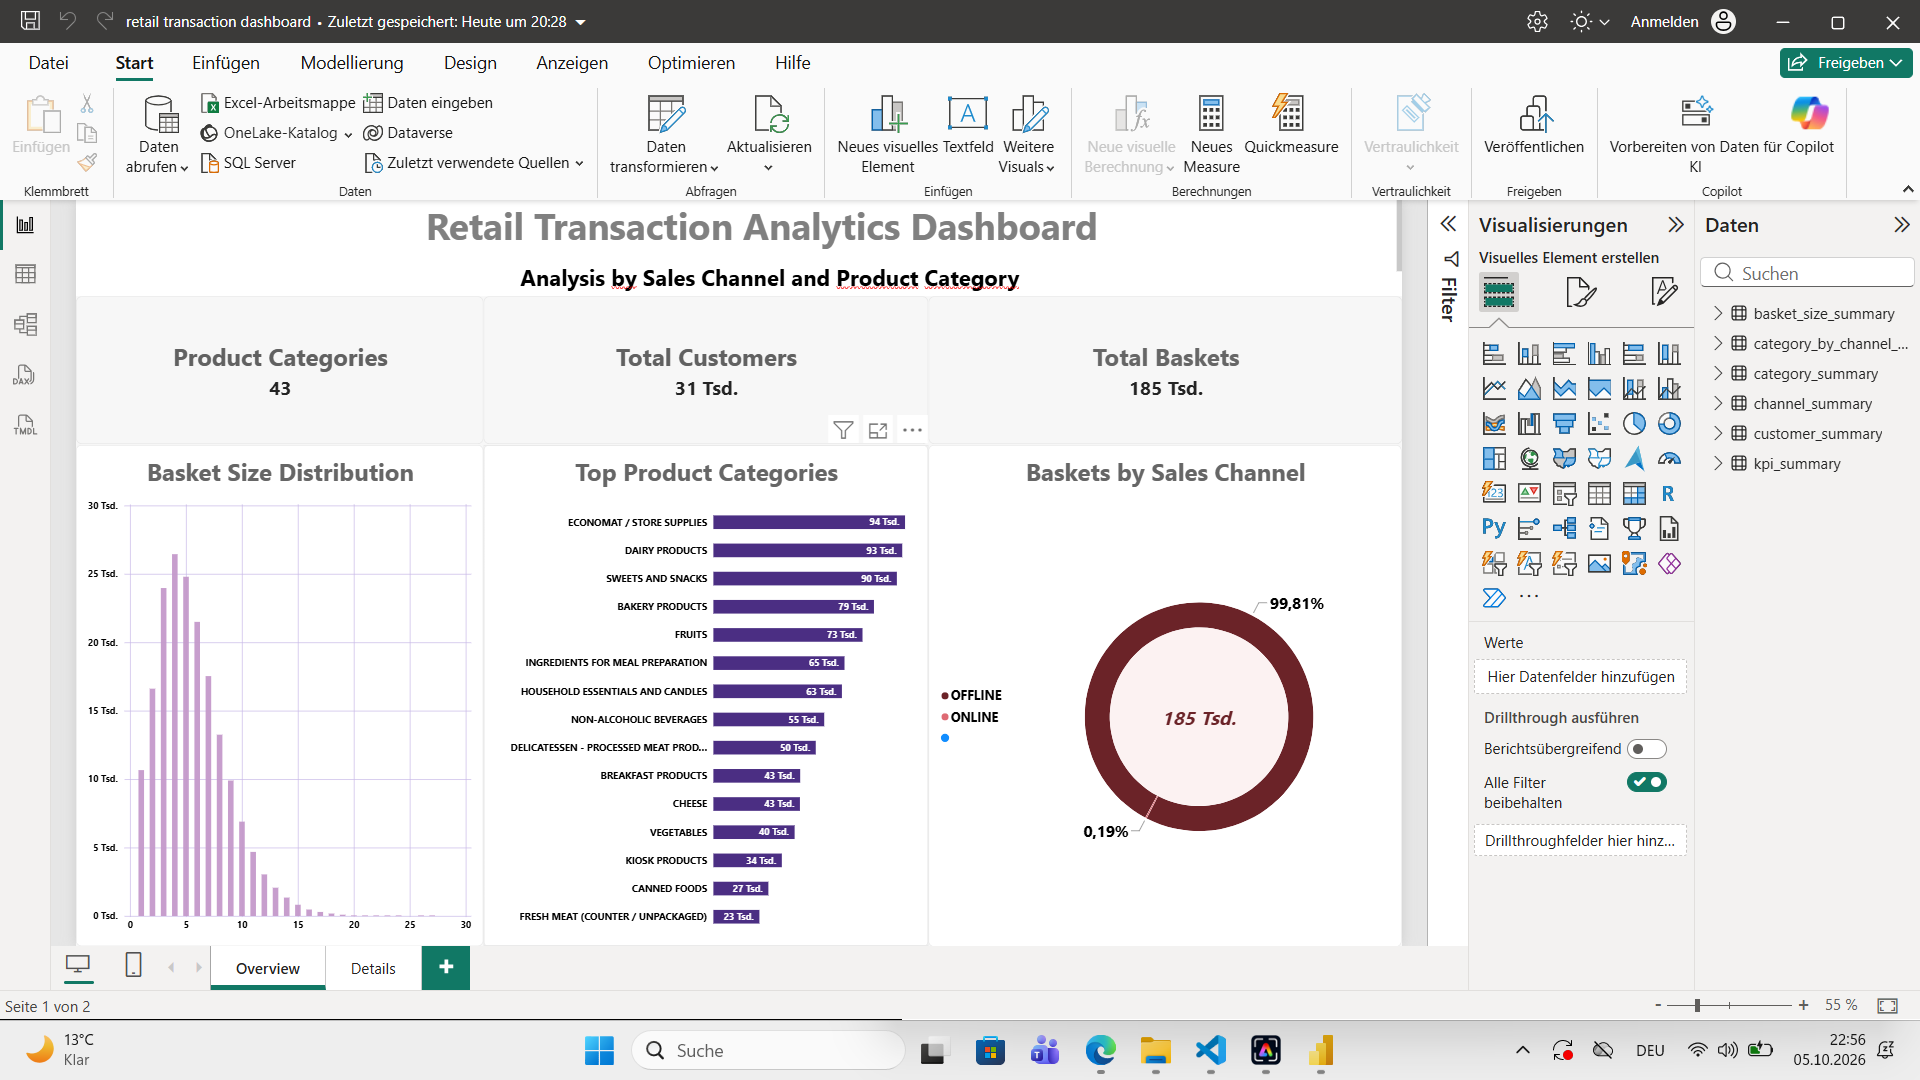

Layout of this report page (visuals, bound fields, positions):
{"tool":"powerbi","page":{"name":"Overview","canvas":[1920,1080],"ordinal":0},"visuals":[{"type":"textbox","box":[10,0,280,280],"z":0},{"type":"textbox","box":[10,290,280,280],"z":1000},{"type":"textbox","box":[10,580,280,280],"z":2000},{"type":"textbox","box":[10,870,280,210],"z":3000},{"type":"textbox","box":[300,0,280,280],"z":4000},{"type":"textbox","box":[300,290,280,280],"z":5000},{"type":"textbox","box":[300,580,280,280],"z":6000},{"type":"textbox","box":[300,870,280,210],"z":7000},{"type":"textbox","box":[590,0,280,280],"z":8000},{"type":"textbox","box":[590,290,280,280],"z":9000},{"type":"textbox","box":[590,580,280,280],"z":10000},{"type":"textbox","box":[590,870,280,210],"z":11000},{"type":"textbox","box":[0,0,1920.1,139.3],"z":12000},{"type":"textbox","box":[880,290,280,280],"z":13000},{"type":"cardVisual","fields":{"Data":["Sum(kpi_summary.total_unique_baskets)"]},"box":[1234.2,139.3,686,214],"z":14000},{"type":"cardVisual","fields":{"Data":["Sum(kpi_summary.total_unique_customers)"]},"box":[590.7,140,644.3,214.1],"z":15000},{"type":"cardVisual","fields":{"Data":["Sum(kpi_summary.total_unique_product_categories)"]},"box":[0,139.3,590.7,214.1],"z":16000},{"type":"donutChart","title":"Baskets by Sales Channel  ","fields":{"Category":["channel_summary.CHANNEL"],"Y":["Sum(channel_summary.basket_count)"]},"box":[1234.2,354.7,685,726],"z":17000},{"type":"clusteredBarChart","title":"Top Product Categories","fields":{"Category":["category_summary.PRODUCT_CATEGORY"],"Y":["Sum(category_summary.basket_count)"]},"box":[590.7,354,644.3,726.6],"z":18000},{"type":"clusteredColumnChart","title":"Basket Size Distribution","fields":{"Category":["basket_size_summary.category_count"],"Y":["Sum(basket_size_summary.basket_count)"]},"box":[0,354.7,589.9,725.7],"z":19000}]}

Visuals, with their boxes on the page's 1920x1080 design canvas (x1, y1, x2, y2). These are canvas units, not pixel positions in the 1920x1080 screenshot, which may show the page scaled, cropped or inside an application window:
textbox: <box>10,0,290,280</box>
textbox: <box>10,290,290,570</box>
textbox: <box>10,580,290,860</box>
textbox: <box>10,870,290,1080</box>
textbox: <box>300,0,580,280</box>
textbox: <box>300,290,580,570</box>
textbox: <box>300,580,580,860</box>
textbox: <box>300,870,580,1080</box>
textbox: <box>590,0,870,280</box>
textbox: <box>590,290,870,570</box>
textbox: <box>590,580,870,860</box>
textbox: <box>590,870,870,1080</box>
textbox: <box>0,0,1920,139</box>
textbox: <box>880,290,1160,570</box>
cardVisual - Sum(kpi_summary.total_unique_baskets): <box>1234,139,1920,353</box>
cardVisual - Sum(kpi_summary.total_unique_customers): <box>591,140,1235,354</box>
cardVisual - Sum(kpi_summary.total_unique_product_categories): <box>0,139,591,353</box>
"Baskets by Sales Channel  " donutChart: <box>1234,355,1919,1081</box>
"Top Product Categories" clusteredBarChart: <box>591,354,1235,1081</box>
"Basket Size Distribution" clusteredColumnChart: <box>0,355,590,1080</box>
